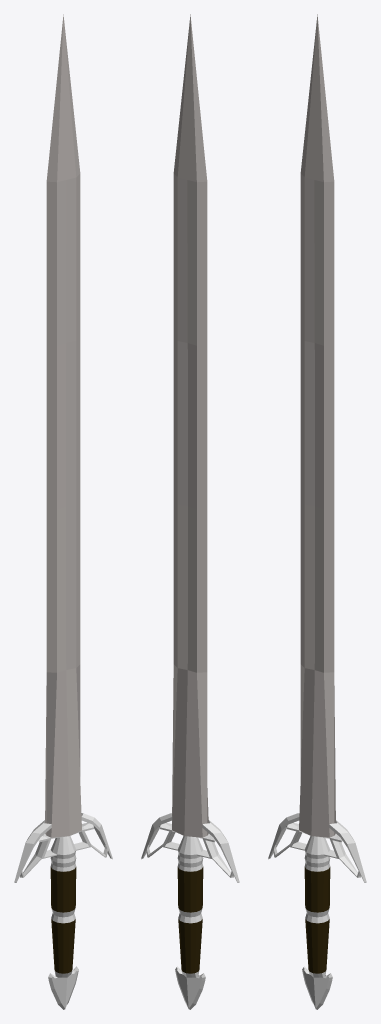
The model's file is weapons.fbx.
3 renders of one model, left to right at view 1: azimuth 30°, elevation 25°; view 2: azimuth 150°, elevation 25°; view 3: azimuth 330°, elevation 25°, orthographic.
Visible parts, largest first — view 1: Sword; view 2: Sword; view 3: Sword.
Part boxes in pixels (x1,y1,x2,y2): Sword: [14, 14, 112, 1009]; Sword: [141, 14, 239, 1009]; Sword: [268, 14, 366, 1009].
Bounding box in the file's own units: 2.04 × 19.79 × 0.4615.
